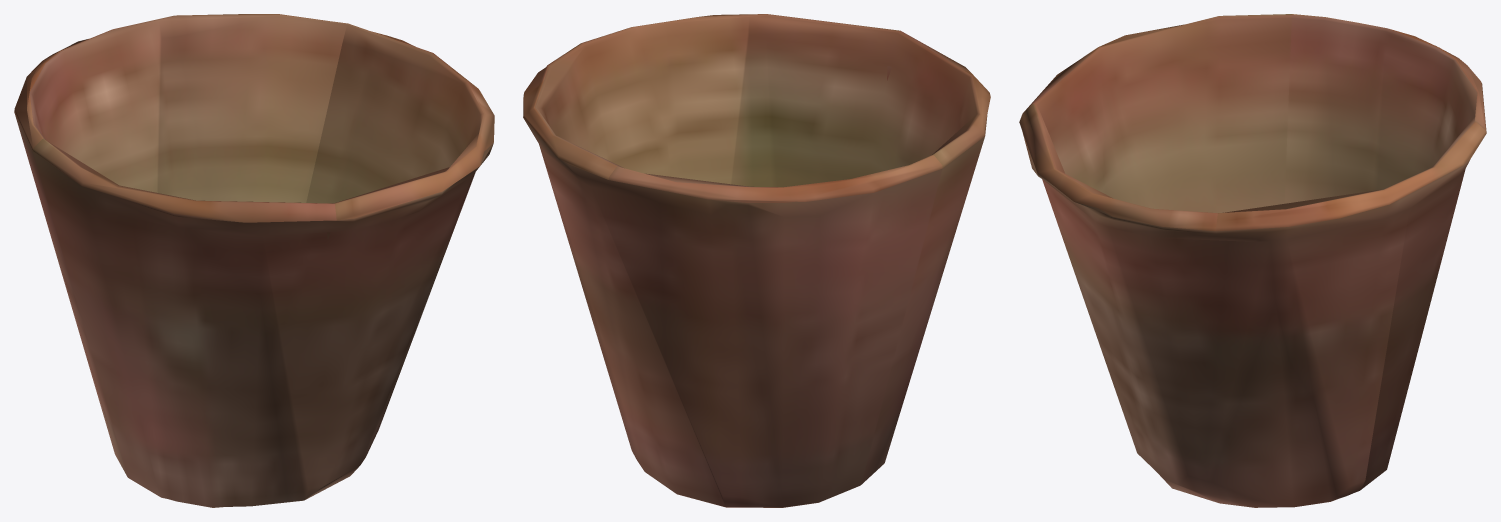
3 views of the same model, side by side, from view 1: azimuth 30°, elevation 25°; view 2: azimuth 150°, elevation 25°; view 3: azimuth 270°, elevation 25° (orthographic).
Parts seen in each view (by area): view 1: planter_pot_clay; view 2: planter_pot_clay; view 3: planter_pot_clay.
Boxes of the visible parts, box(x1,y1,x2,y2) form: planter_pot_clay: box(14, 14, 494, 507); planter_pot_clay: box(523, 14, 990, 507); planter_pot_clay: box(1019, 14, 1486, 507).
Size of the model in its own units: 0.2637 by 0.2208 by 0.2611.
1 material, 1 textured.
